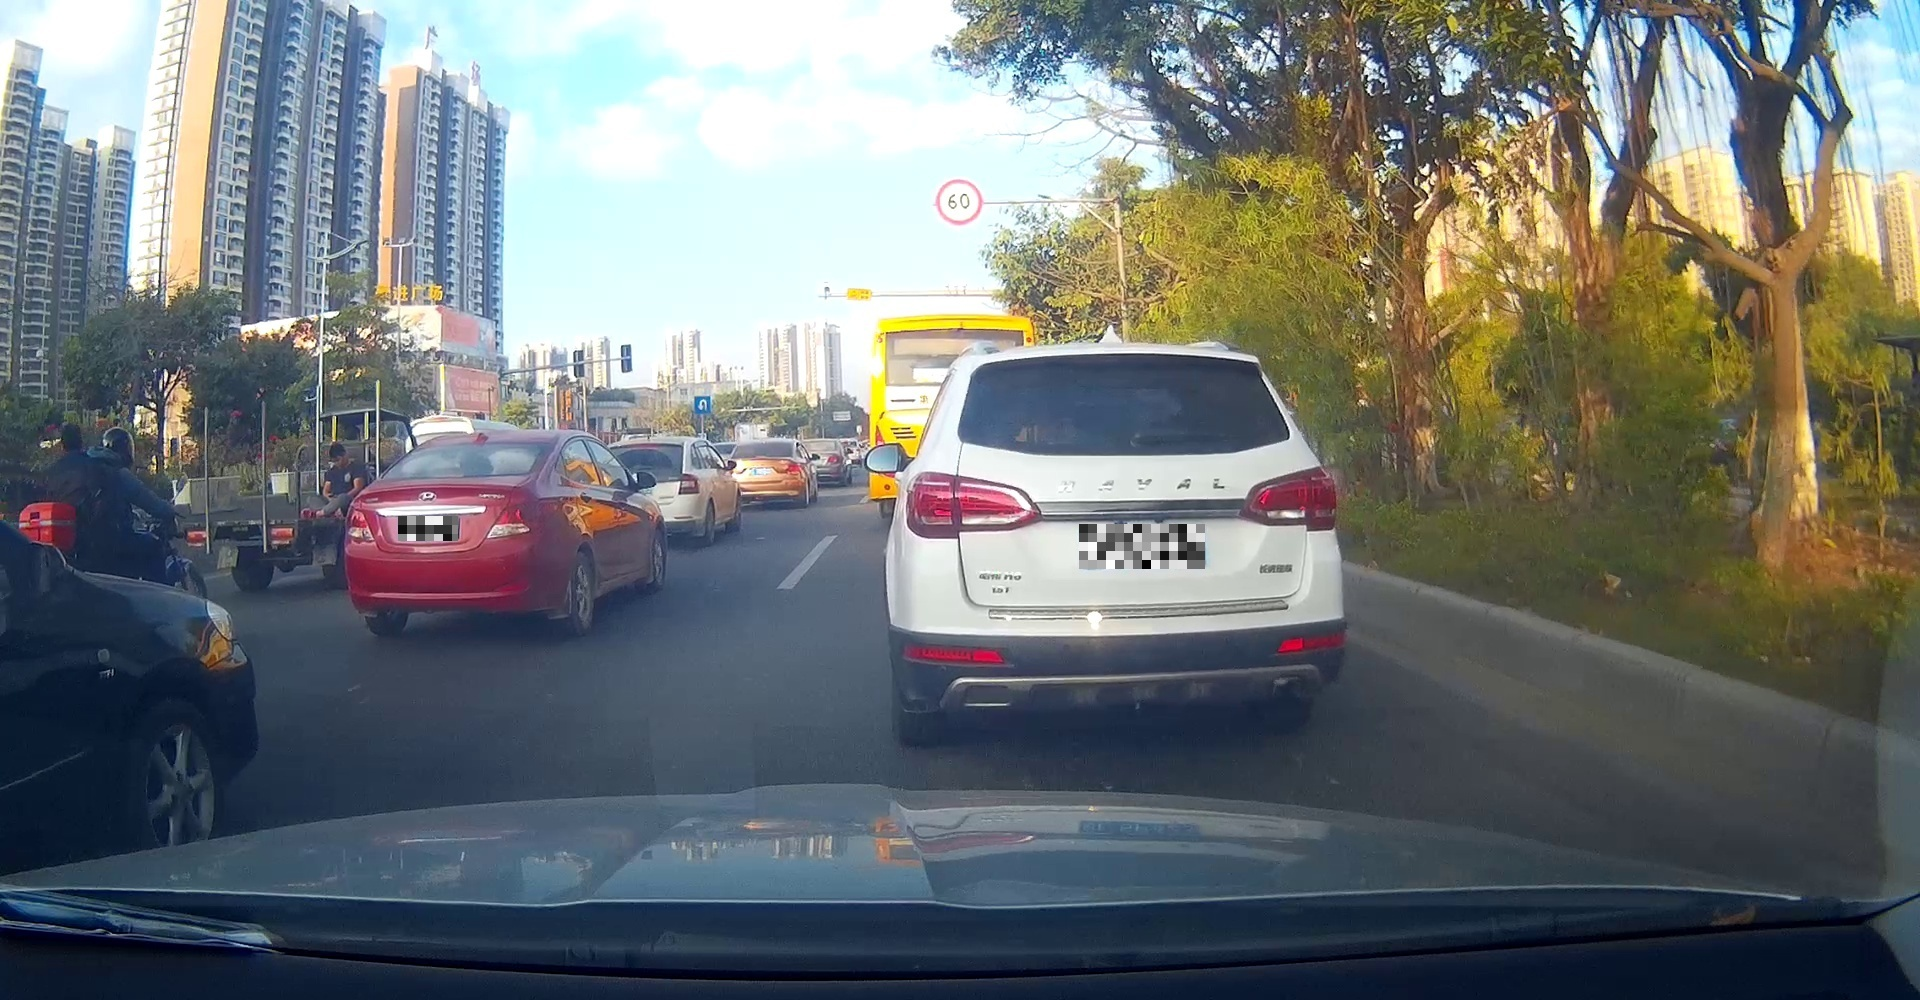L_light: (904, 470, 1041, 539), (345, 506, 375, 543)
R_light: (1239, 464, 1338, 532), (486, 503, 533, 541)
T_light: (1082, 353, 1148, 365), (432, 472, 463, 478)
day-no: (894, 341, 1345, 742), (344, 428, 552, 637)
plate_1: (397, 516, 458, 541)
plate_2: (1079, 524, 1205, 569)
